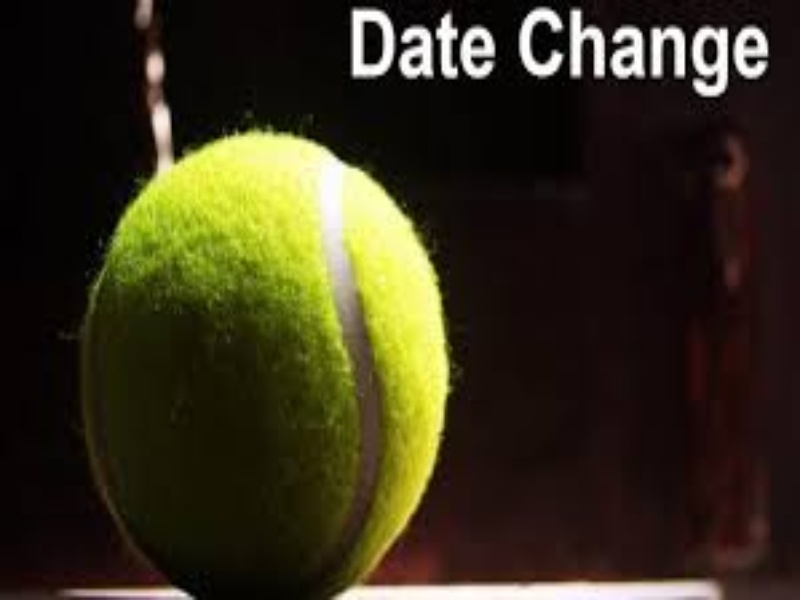tennis ball: (77, 107, 457, 600)
